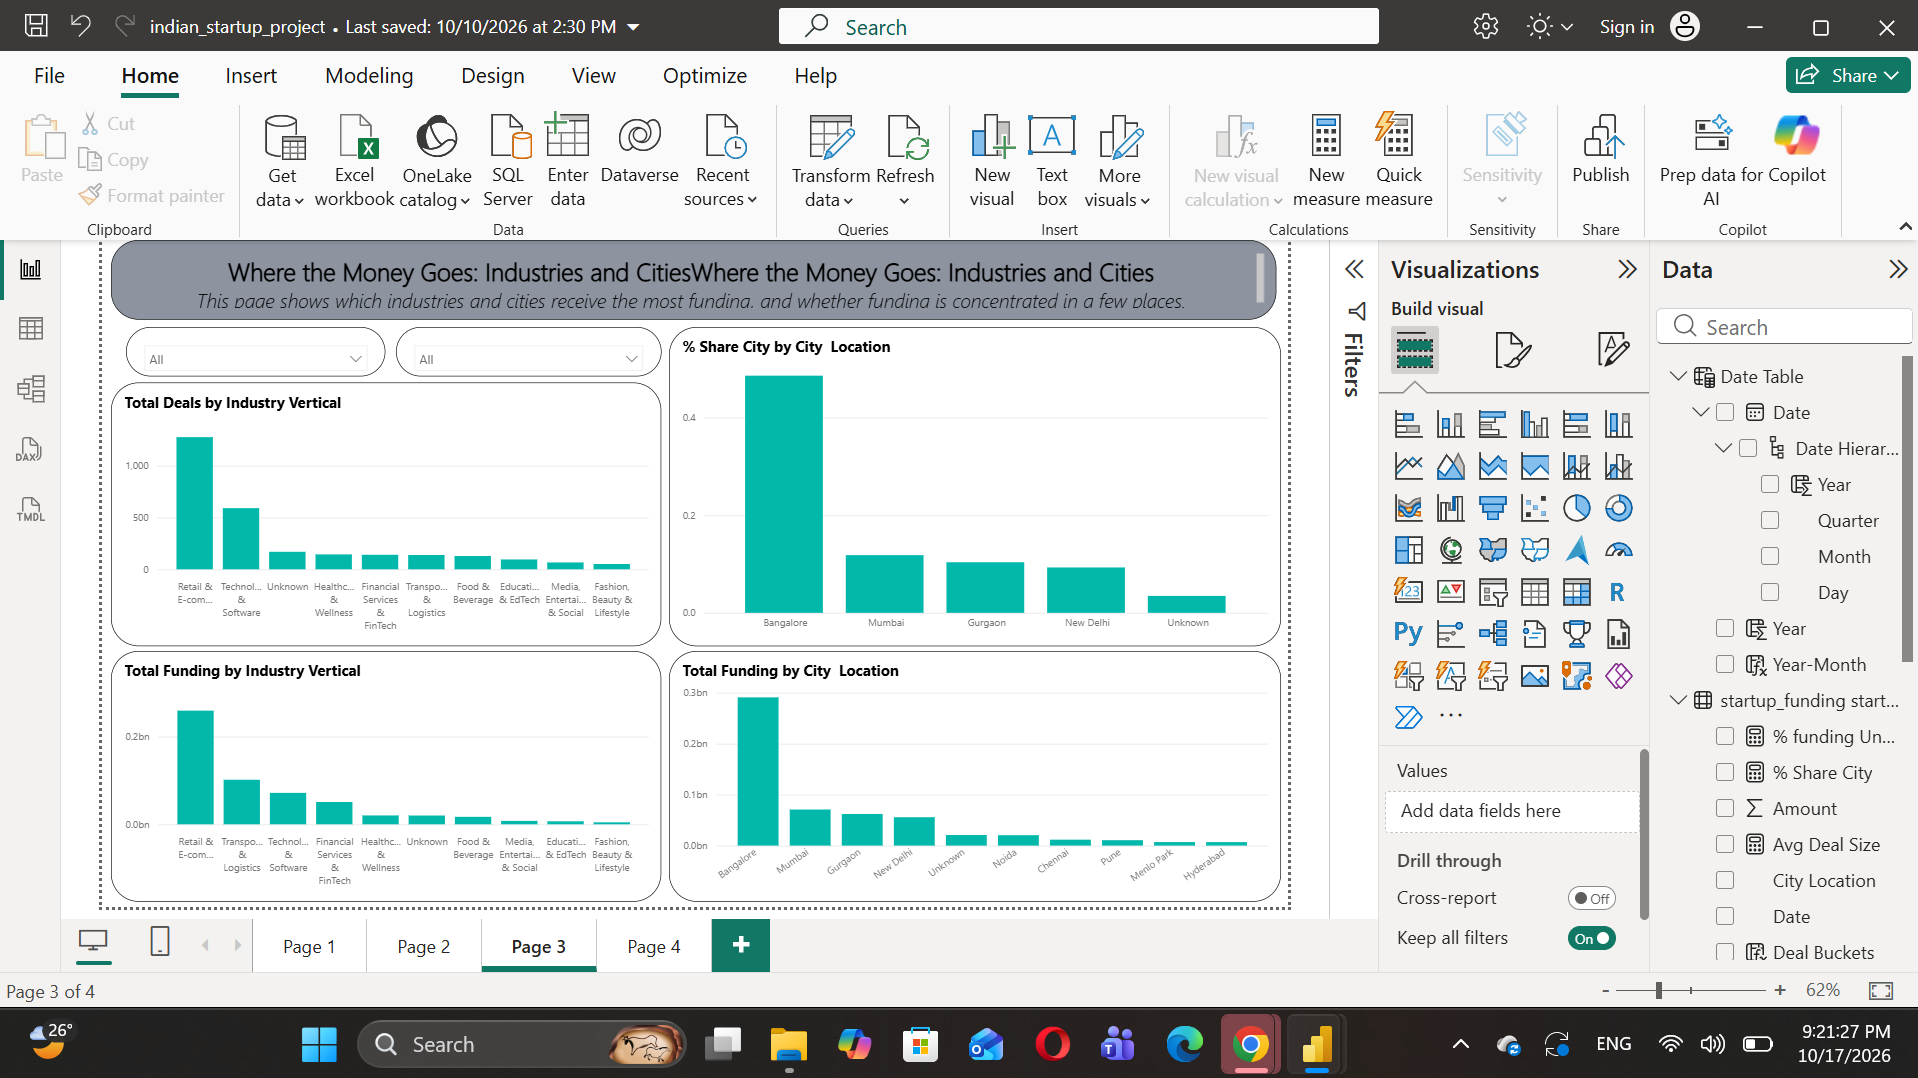

This screenshot's page, from the dashboard's own definition file:
{"tool":"powerbi","page":{"name":"Page 3","canvas":[1280,720],"ordinal":2},"visuals":[{"type":"textbox","box":[9.7,0,1258.1,85.8],"z":0},{"type":"slicer","fields":{"Values":["Date Table.Year"]},"box":[25.9,93.9,280.1,53.4],"z":1},{"type":"slicer","fields":{"Values":["startup_funding startup_funding.Industry Vertical"]},"box":[317.4,93.9,286.6,53.4],"z":2},{"type":"columnChart","fields":{"Category":["startup_funding startup_funding.Industry Vertical"],"Y":["startup_funding startup_funding.Total Deals"]},"box":[9.7,153.8,594.3,285],"z":3},{"type":"columnChart","fields":{"Category":["startup_funding startup_funding.Industry Vertical"],"Y":["startup_funding startup_funding.Total Funding"]},"box":[9.7,443.7,594.3,270.4],"z":4},{"type":"columnChart","fields":{"Category":["startup_funding startup_funding.City  Location"],"Y":["startup_funding startup_funding.Total Funding"]},"box":[612.1,443.7,660.6,270.4],"z":5},{"type":"columnChart","fields":{"Category":["startup_funding startup_funding.City  Location"],"Y":["startup_funding startup_funding.% Share City"]},"box":[612.1,93.9,660.6,344.9],"z":6}]}

Visuals, with their boxes on the page's 1280x720 design canvas (x1, y1, x2, y2). These are canvas units, not pixel positions in the 1918x1078 screenshot, which may show the page scaled, cropped or inside an application window:
textbox: [left=10, top=0, right=1268, bottom=86]
slicer - Date Table.Year: [left=26, top=94, right=306, bottom=147]
slicer - startup_funding startup_funding.Industry Vertical: [left=317, top=94, right=604, bottom=147]
columnChart - startup_funding startup_funding.Industry Vertical x startup_funding startup_funding.Total Deals: [left=10, top=154, right=604, bottom=439]
columnChart - startup_funding startup_funding.Industry Vertical x startup_funding startup_funding.Total Funding: [left=10, top=444, right=604, bottom=714]
columnChart - startup_funding startup_funding.City  Location x startup_funding startup_funding.Total Funding: [left=612, top=444, right=1273, bottom=714]
columnChart - startup_funding startup_funding.City  Location x startup_funding startup_funding.% Share City: [left=612, top=94, right=1273, bottom=439]
